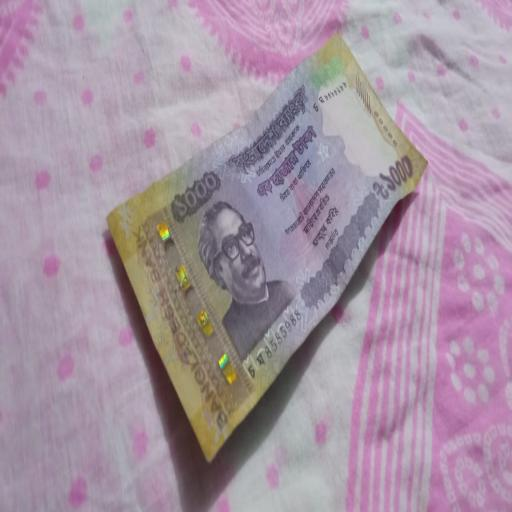1000taka: (106, 30, 428, 464)
